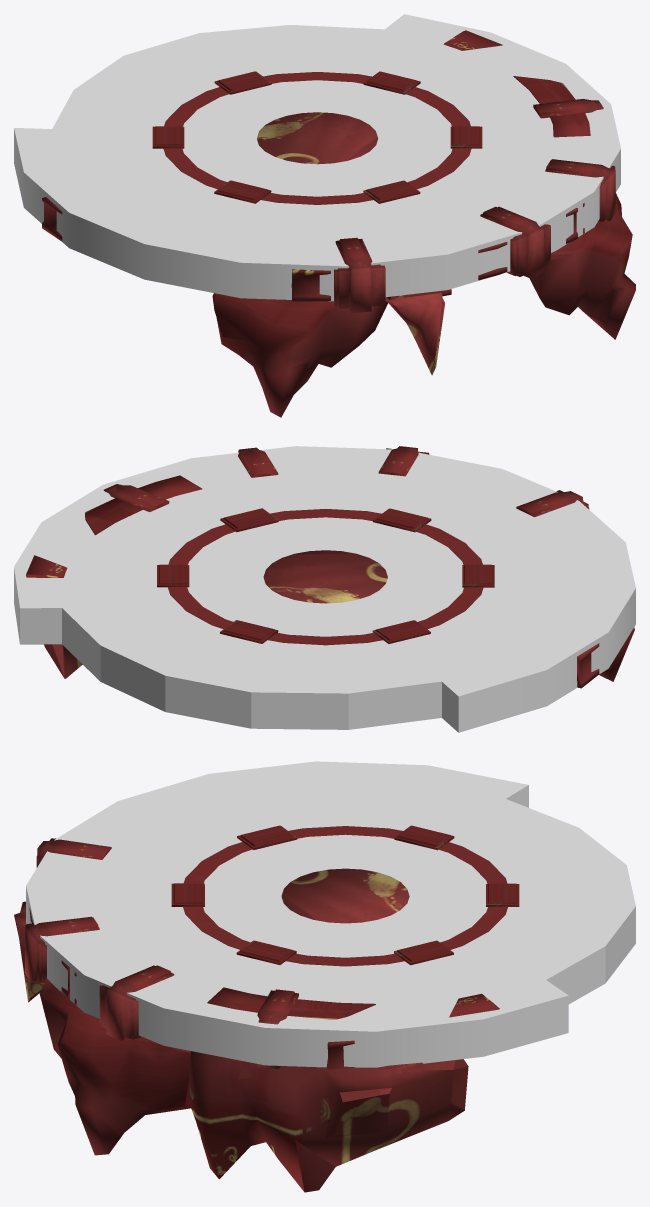
Rendered from Scene_Build_ShiTai_1.FBX.
3 views of the same model, one above another, from view 1: azimuth 30°, elevation 25°; view 2: azimuth 150°, elevation 25°; view 3: azimuth 270°, elevation 25° (orthographic). The views are drawn at different scales.
Parts seen in each view (by area): view 1: Scene_Build_ShiTai_1_Xzm, Scene_Build_ShiTai_1; view 2: Scene_Build_ShiTai_1_Xzm, Scene_Build_ShiTai_1; view 3: Scene_Build_ShiTai_1_Xzm, Scene_Build_ShiTai_1.
Part boxes in pixels (left/top/right/bottom): Scene_Build_ShiTai_1_Xzm: left=14, top=14, right=620, bottom=301; Scene_Build_ShiTai_1: left=42, top=30, right=635, bottom=417; Scene_Build_ShiTai_1_Xzm: left=14, top=446, right=635, bottom=732; Scene_Build_ShiTai_1: left=26, top=446, right=634, bottom=688; Scene_Build_ShiTai_1_Xzm: left=26, top=761, right=635, bottom=1067; Scene_Build_ShiTai_1: left=14, top=825, right=519, bottom=1192.
Bounding box in the file's own units: 2264 × 661 × 2098.
